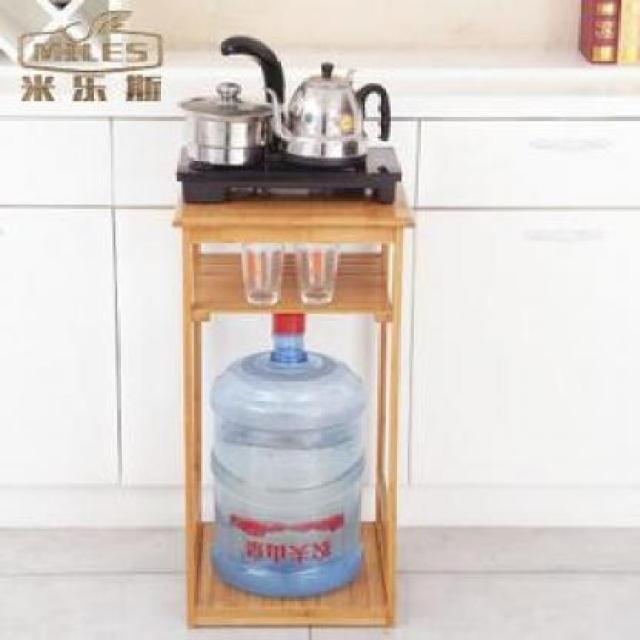coolerbottle: (206, 324, 375, 604)
